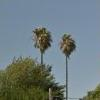Palm tree: (27, 18, 82, 100)
